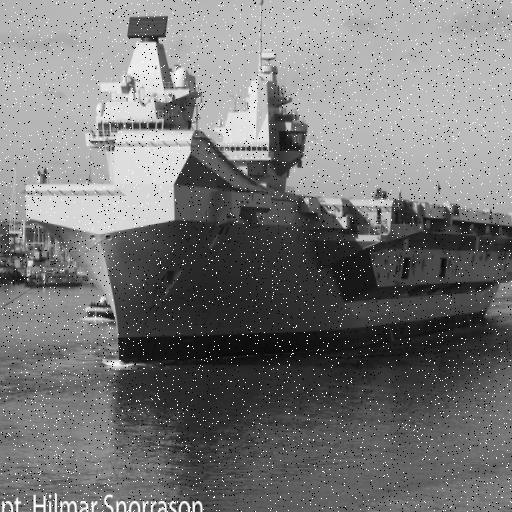Portanaves: (23, 1, 512, 372)
